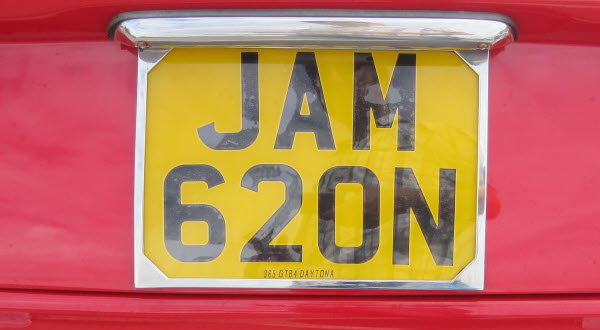license_plate: (132, 47, 487, 289)
